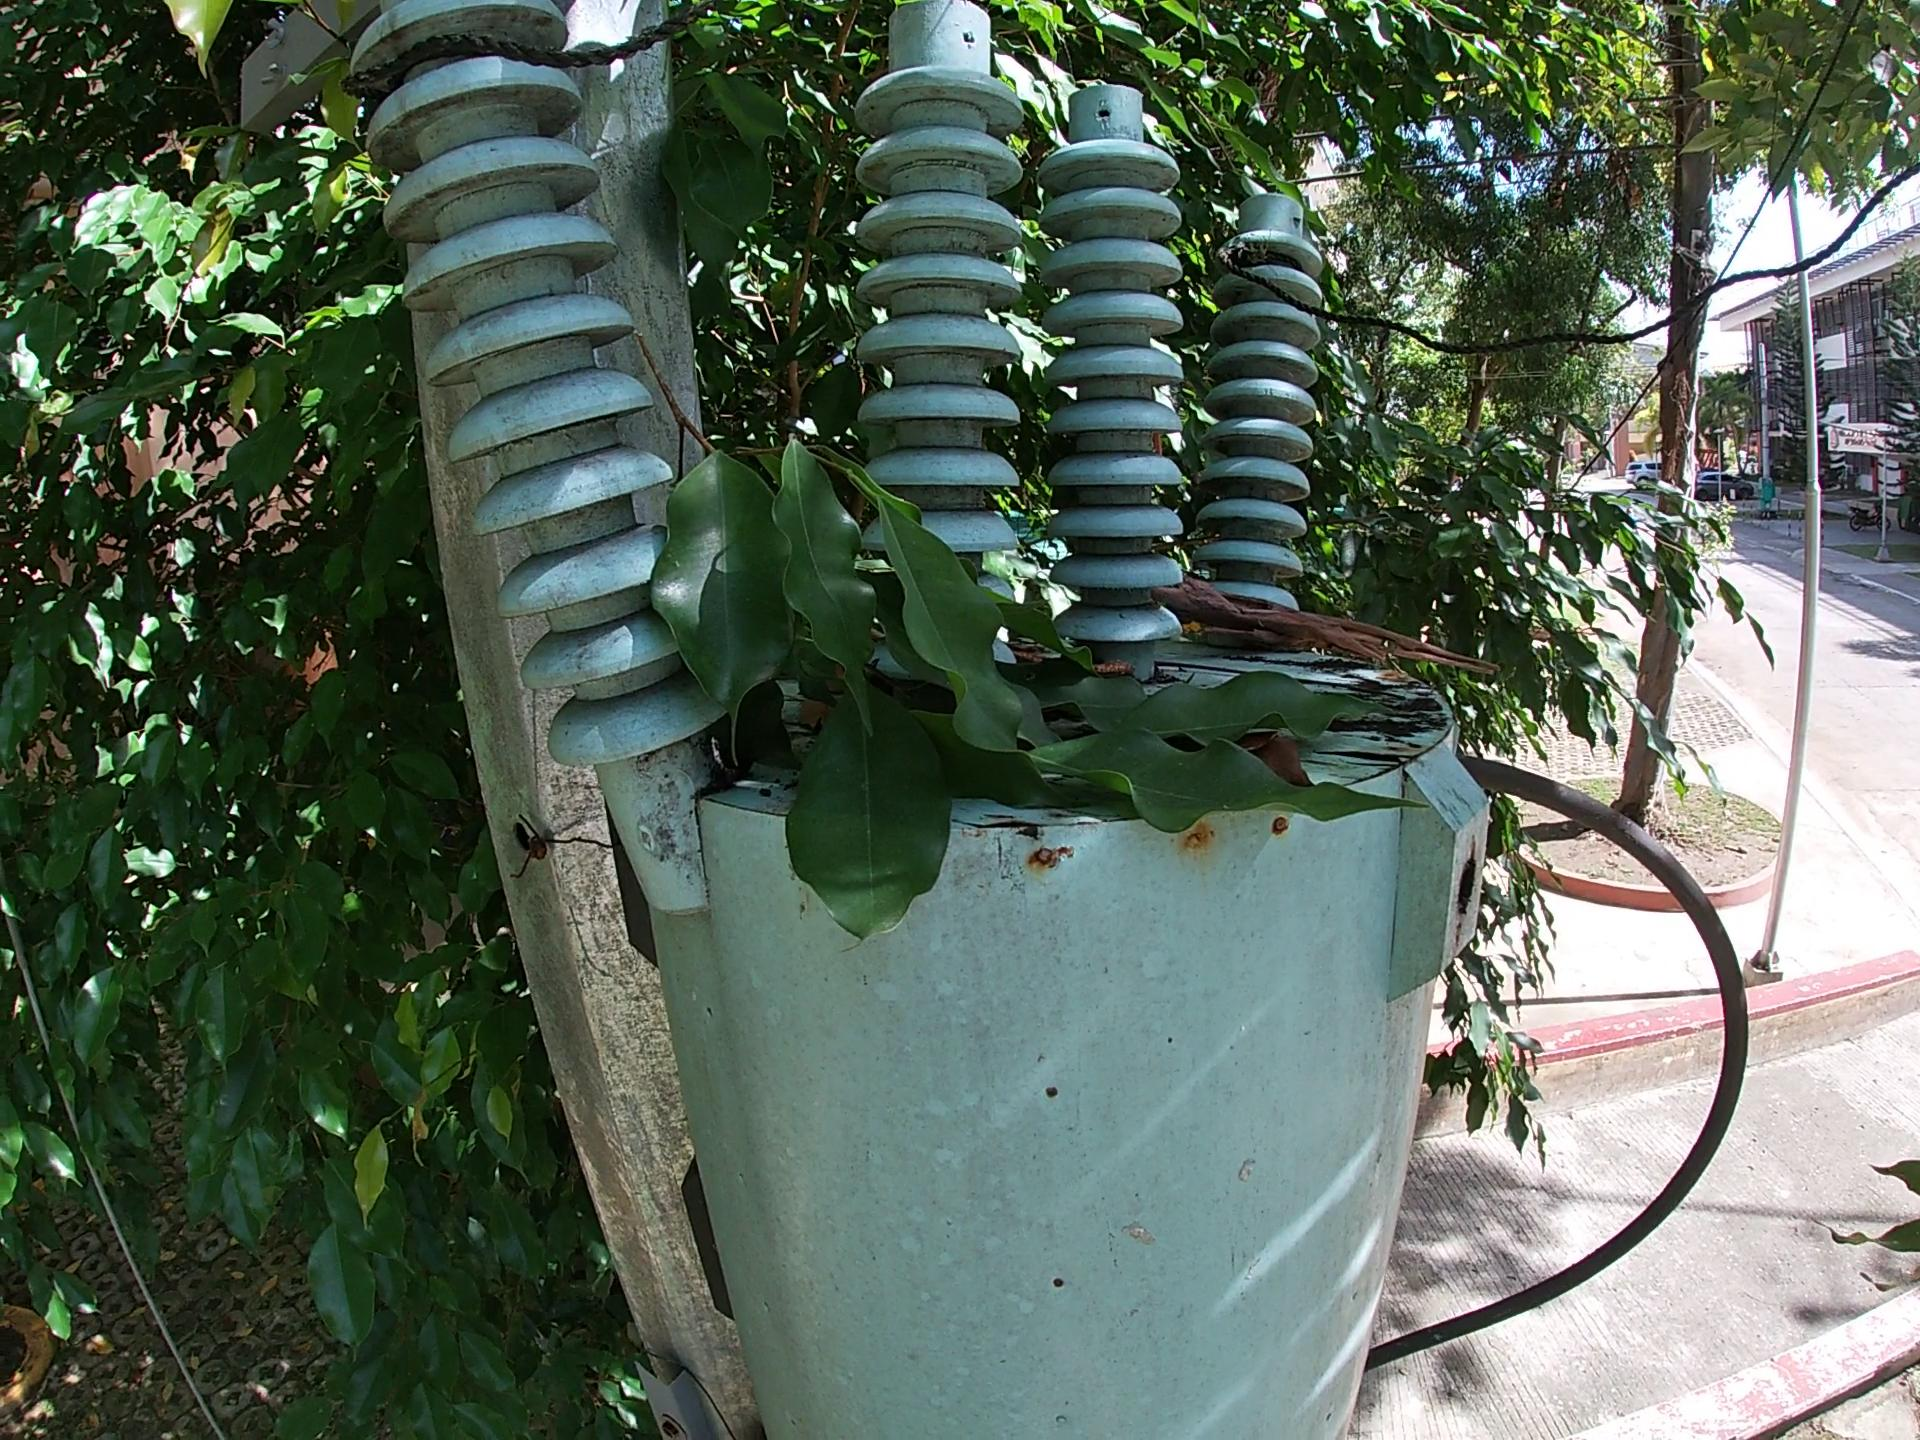branch with leaves: (585, 325, 1457, 959)
mahogany fruit: (1256, 725, 1335, 784), (1005, 656, 1129, 682)
tree branch: (1172, 582, 1506, 681), (1155, 659, 1430, 700)
